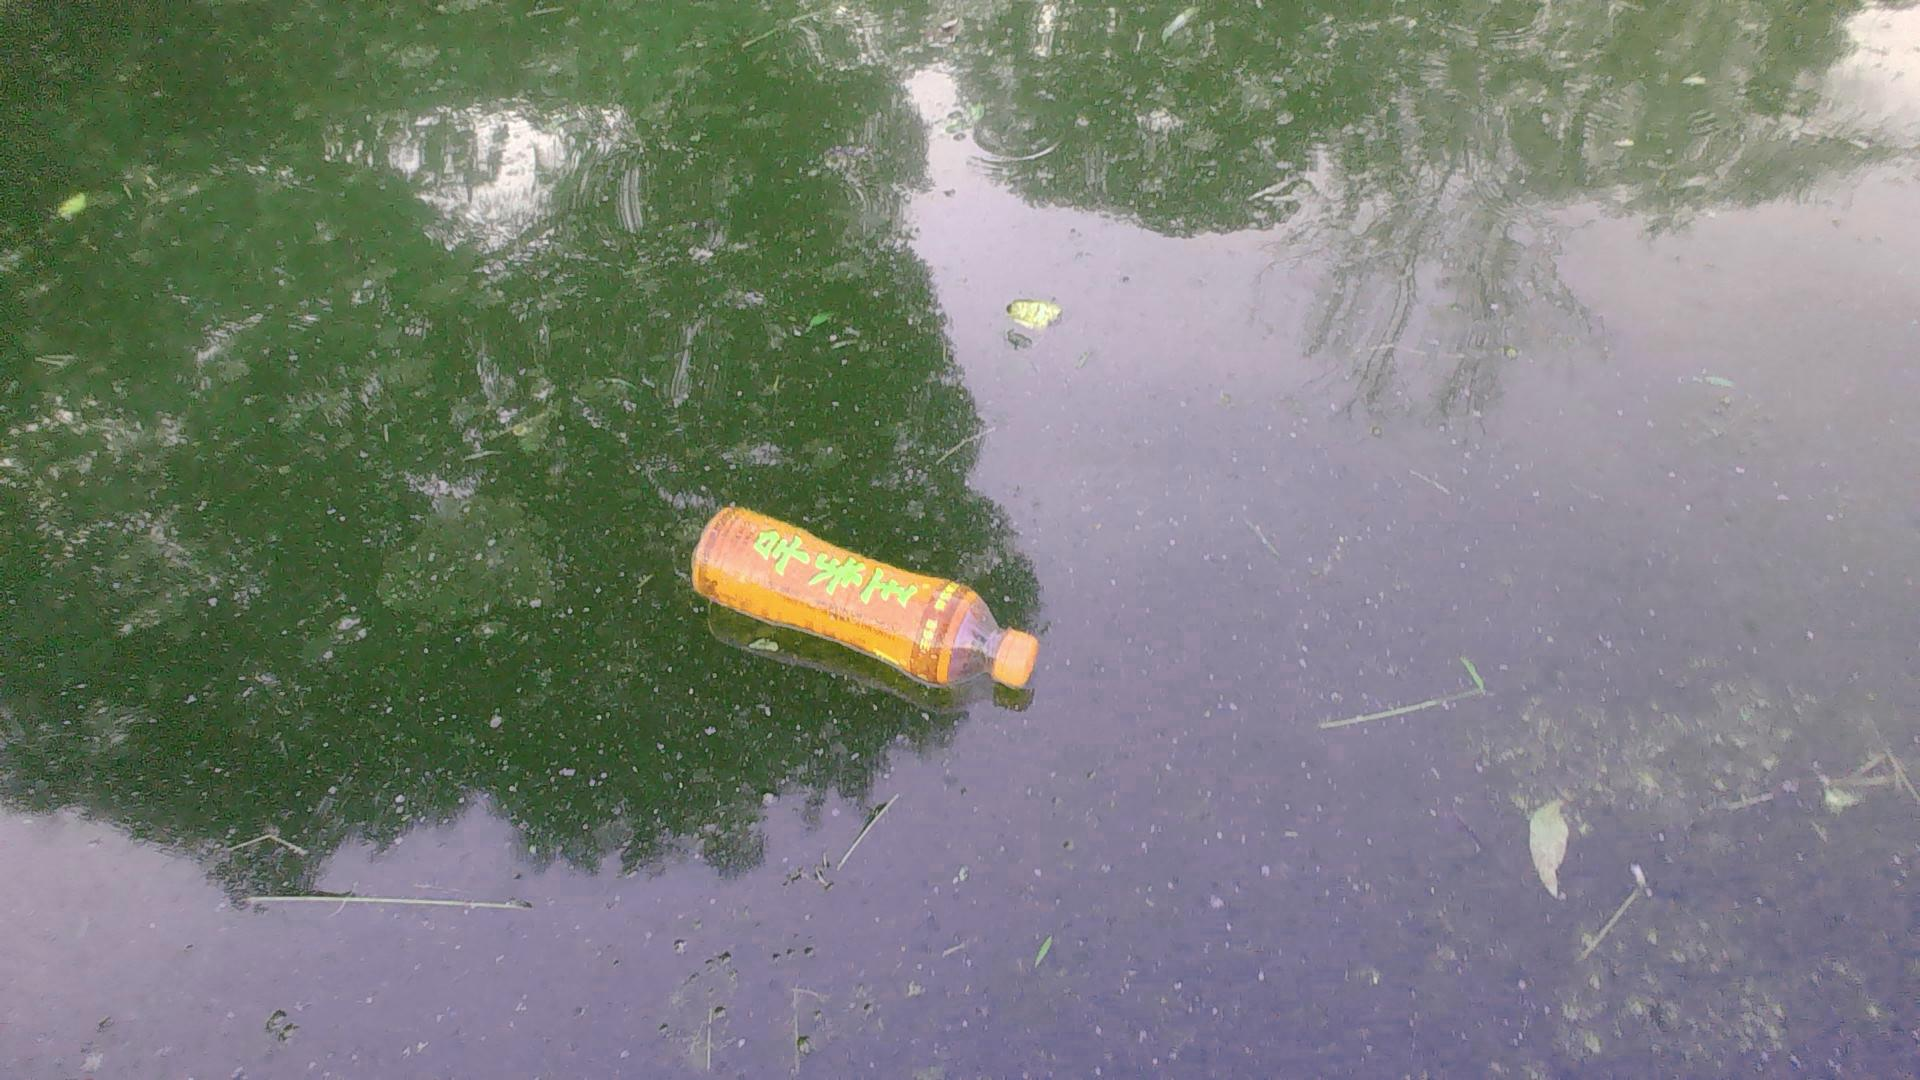Plastic: (684, 495, 1048, 695)
